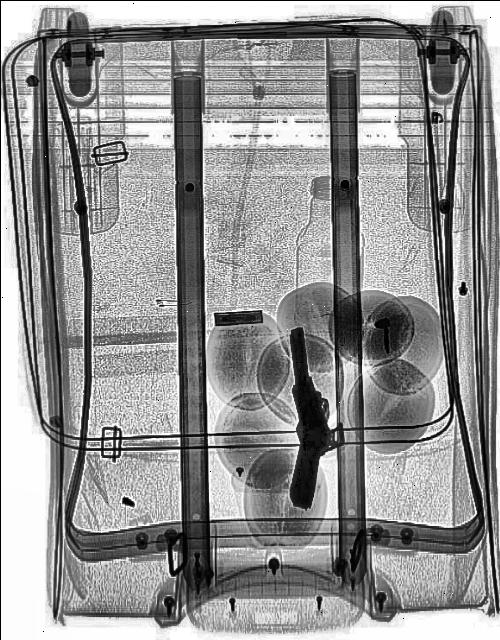Gun: (258, 378, 348, 516), (279, 322, 344, 462)
